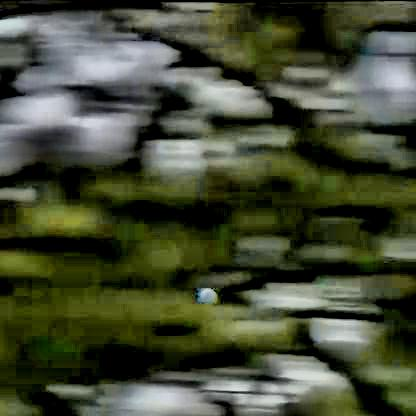golfball: (196, 285, 218, 303)
